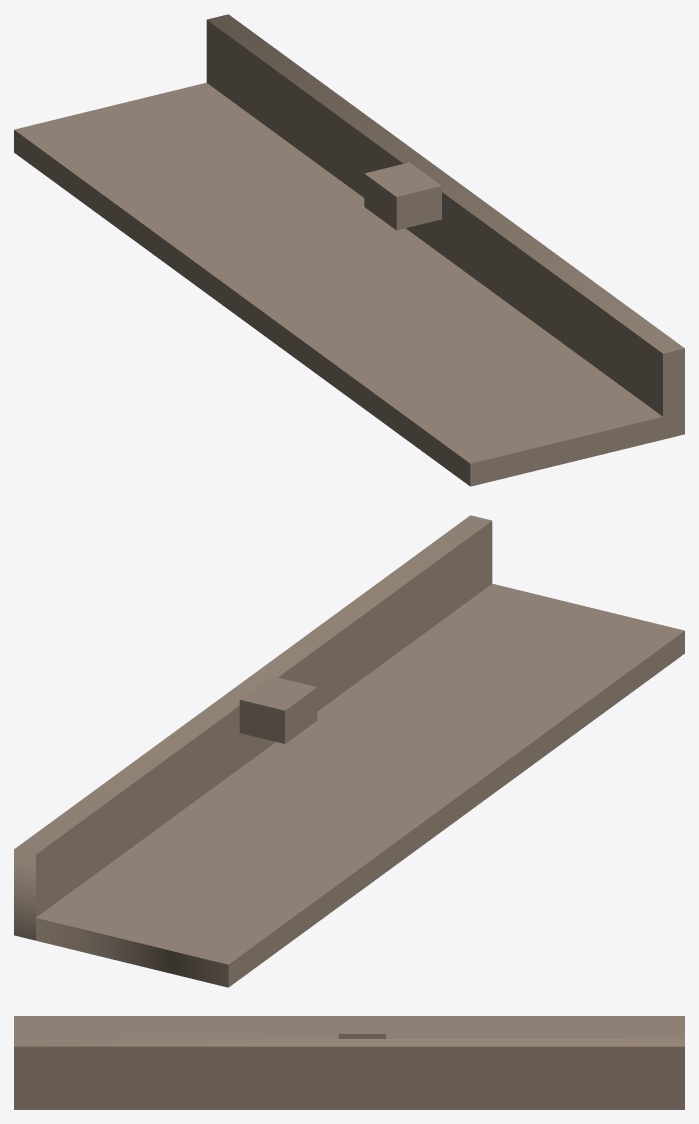
File: sewer.fbx
3 renders of one model, top to bottom at view 1: azimuth 30°, elevation 25°; view 2: azimuth 150°, elevation 25°; view 3: azimuth 270°, elevation 25°, orthographic. The views are drawn at different scales.
Parts seen in each view (by area): view 1: Box134; view 2: Box134; view 3: Box134.
Part boxes in pixels (x1,y1,x2,y2): Box134: (14, 14, 684, 486); Box134: (14, 515, 684, 987); Box134: (14, 1016, 684, 1109).
Bounding box in the file's own units: 11.01 × 4.52 × 40.57.
